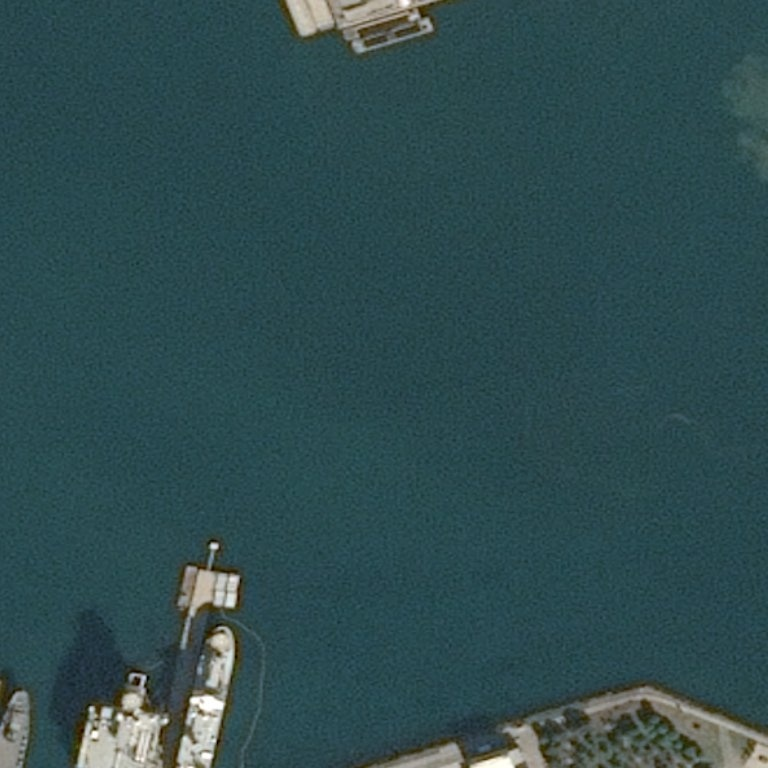ship: (174, 627, 233, 767), (0, 690, 29, 767)
